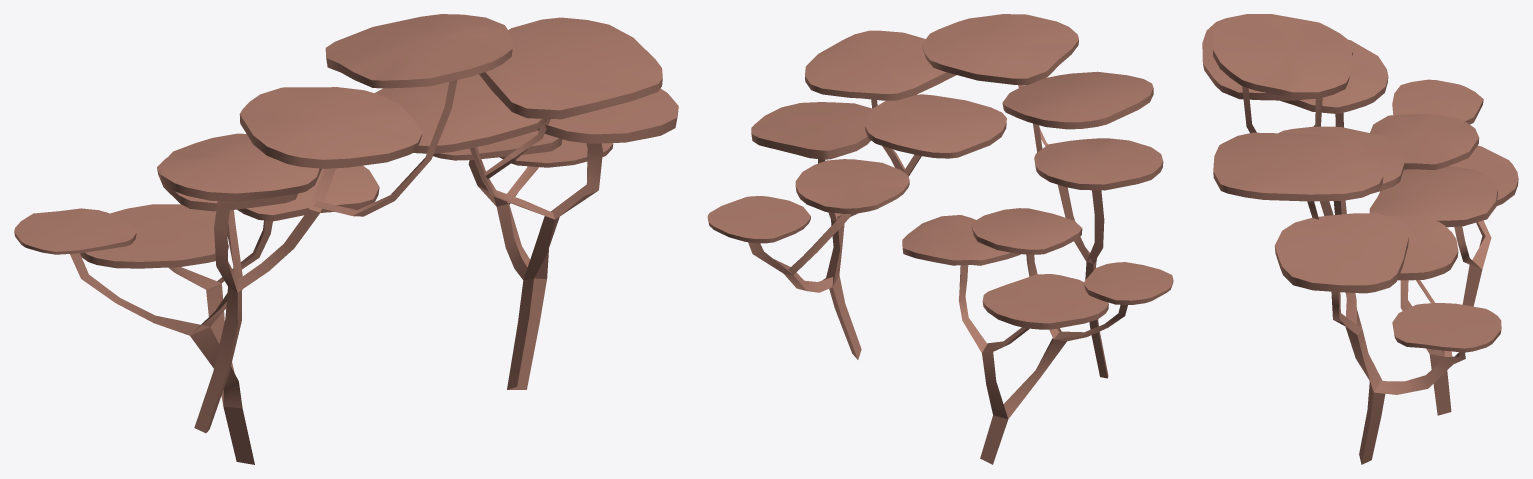
Rendered from coral_plates_B.fbx.
The picture shows the model from 3 angles, left to right: view 1: azimuth 30°, elevation 25°; view 2: azimuth 150°, elevation 25°; view 3: azimuth 270°, elevation 25°; orthographic projection. The views are drawn at different scales.
Parts seen in each view (by area): view 1: coral_plates_B_A, coral_plates_B_B, coral_plates_B_C; view 2: coral_plates_B_B, coral_plates_B_A, coral_plates_B_C; view 3: coral_plates_B_B, coral_plates_B_C, coral_plates_B_A.
Boxes of the visible parts, bbox=[...] form: coral_plates_B_A: bbox=[159, 14, 512, 433]; coral_plates_B_B: bbox=[375, 17, 678, 389]; coral_plates_B_C: bbox=[14, 157, 379, 464]; coral_plates_B_B: bbox=[707, 30, 1006, 359]; coral_plates_B_A: bbox=[922, 14, 1163, 378]; coral_plates_B_C: bbox=[902, 208, 1173, 464]; coral_plates_B_B: bbox=[1213, 126, 1501, 464]; coral_plates_B_C: bbox=[1369, 79, 1518, 415]; coral_plates_B_A: bbox=[1202, 14, 1388, 214].
Size of the model in its own units: 190 by 146 by 104.
